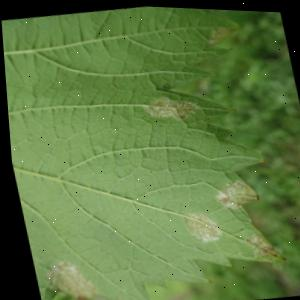Folha: (0, 0, 296, 300)
Fungo: (37, 255, 94, 300), (138, 89, 201, 124), (209, 174, 258, 210), (238, 227, 283, 264), (179, 206, 221, 244), (202, 19, 247, 46)
